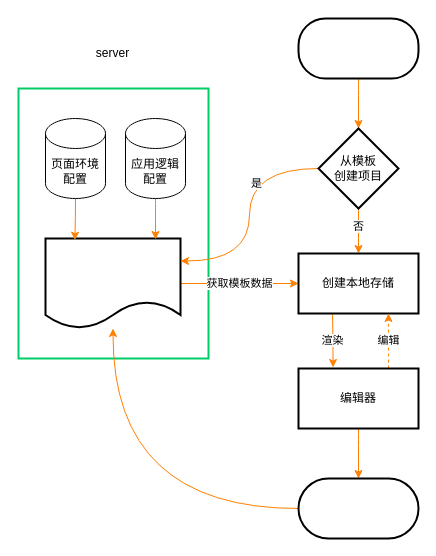
Some shapes in this 436 by 556 pixel diagram are drawn without their labels. Here are the shapes that lost their labels. From the top down, the box of each, then its label:
(297, 17, 419, 79): 创建项目
(44, 237, 181, 329): 模板数据
(297, 477, 419, 539): 发布
